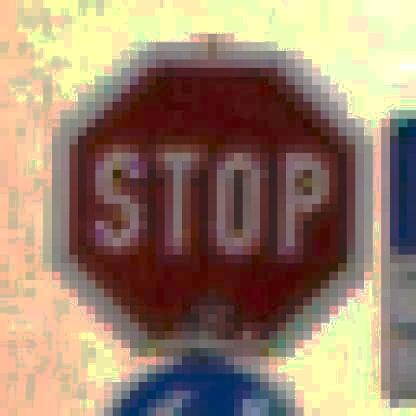Stop Sign: (52, 38, 376, 355)
